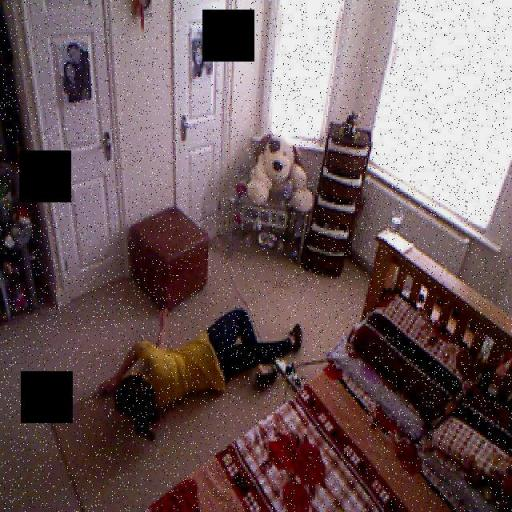Fall: (94, 307, 301, 442)
